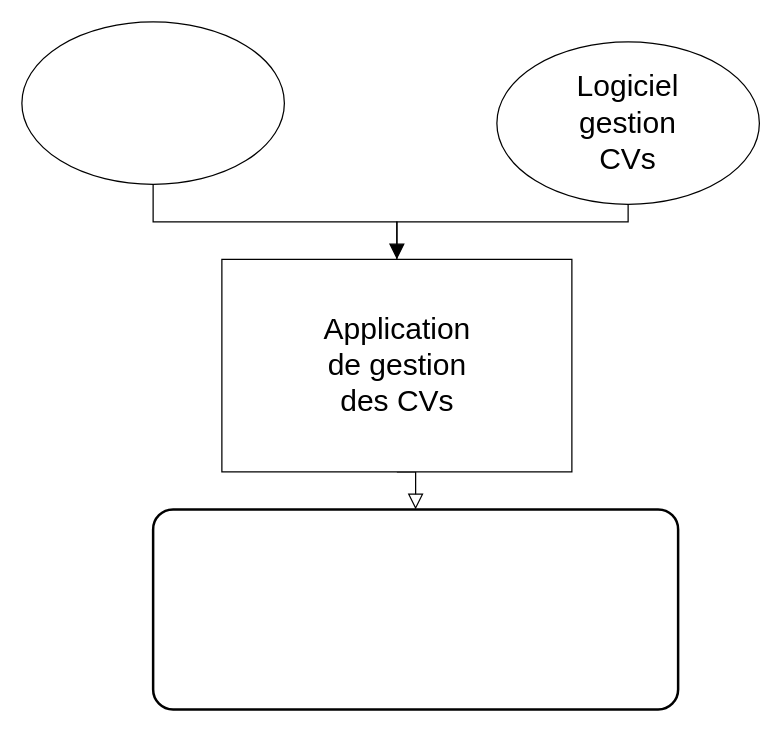
Some shapes in this 781 by 733 pixel diagram are drawn without their labels. The box of each missing label's shape, as (x1, y1, x2, y2) in pixels:
Personne: (21, 21, 284, 184)
Présenter une liste de CV: (151, 508, 679, 710)
